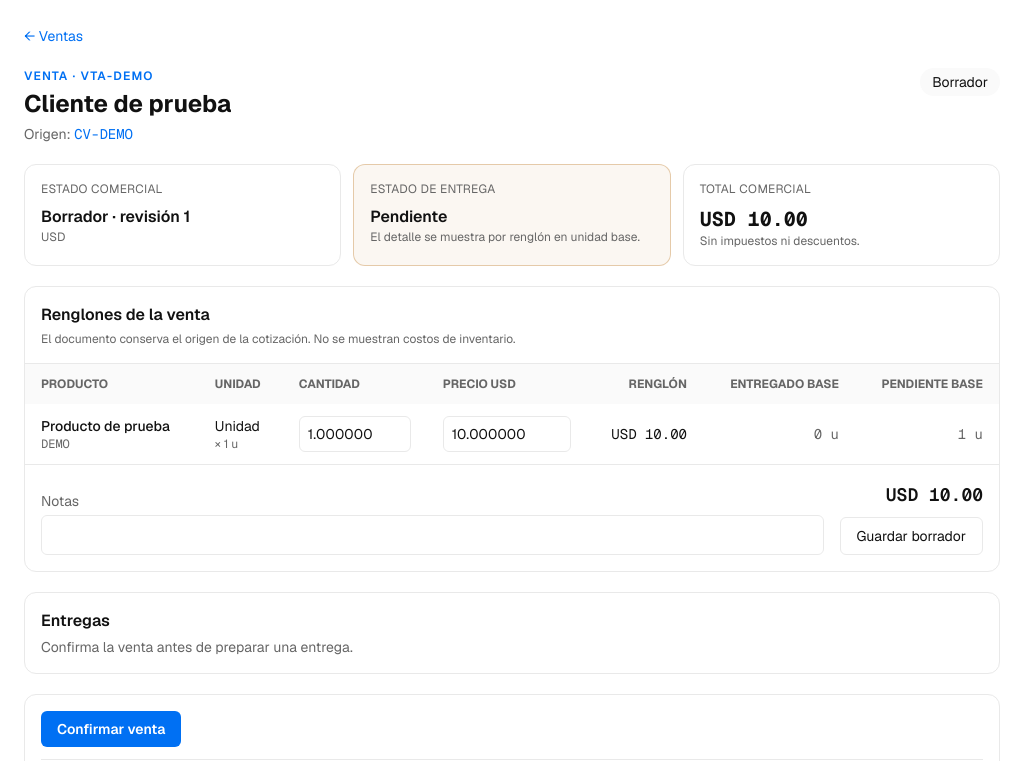
Test case: exige guardar cantidades editadas antes de confirmar los términos de la venta
expect the button "Confirmar venta" is enabled: met, box [41,711,181,747]
Replace the text in the number field named "Cantidad de Producto de prueba" with "2" at coordinates (355, 434), box [299,416,411,452]
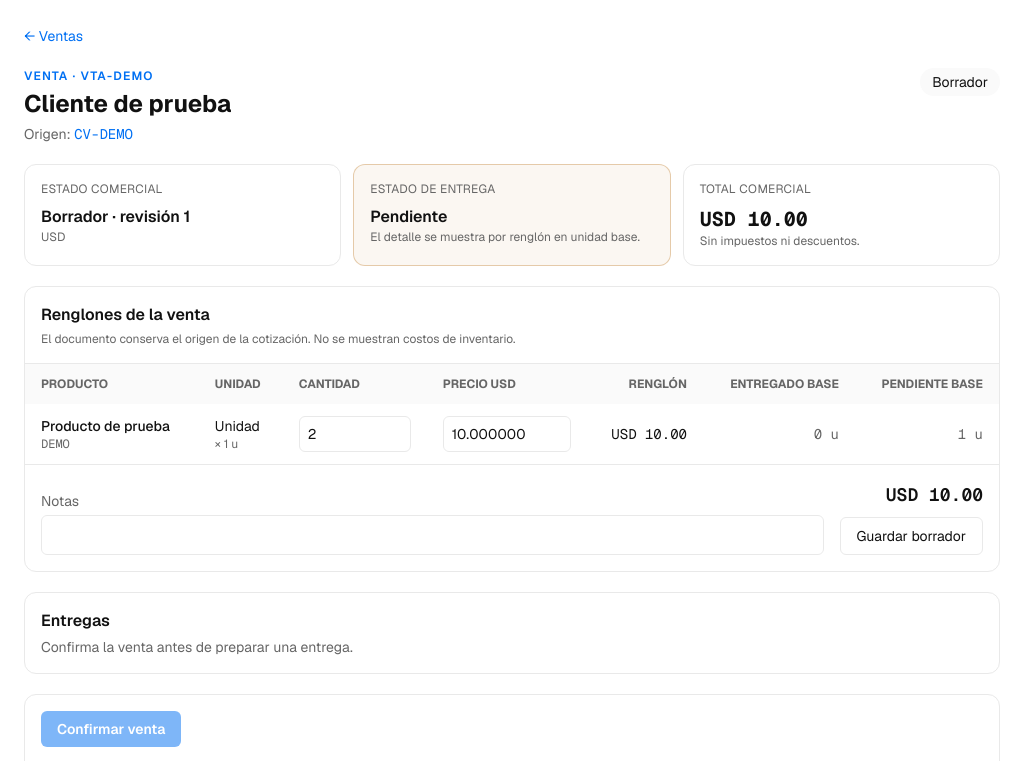
expect the button "Confirmar venta" is disabled: met, box [41,711,181,747]
Submit the form named "Guardar borrador", box [24,286,1000,572]
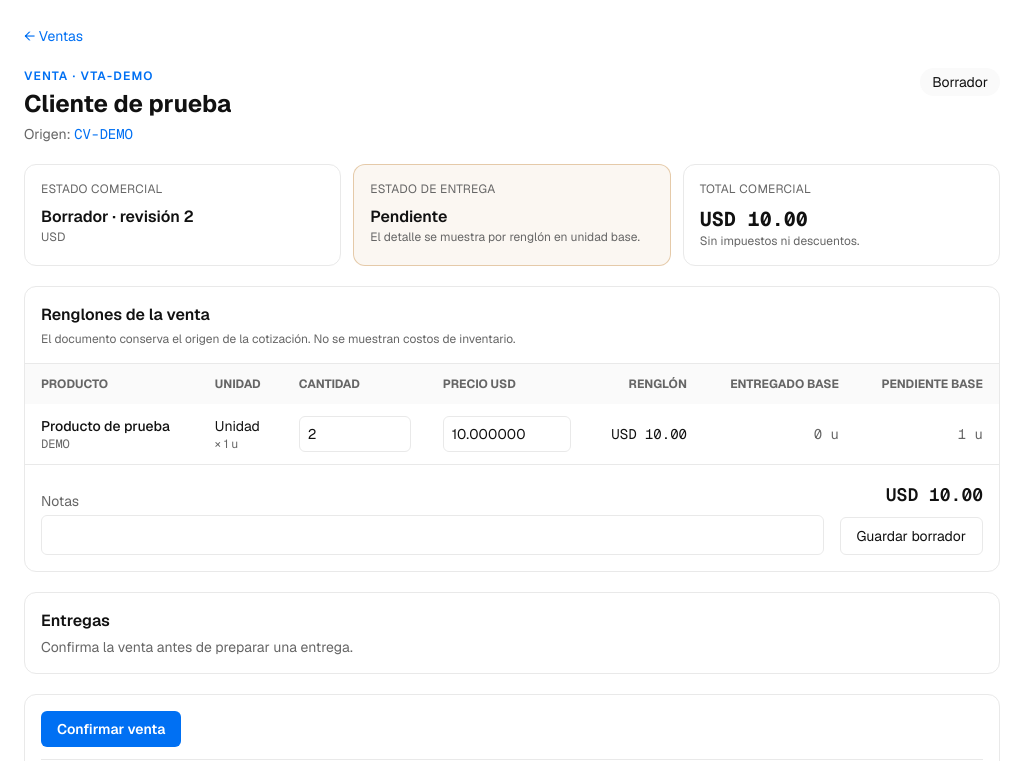
expect the button "Confirmar venta" is enabled: met, box [41,711,181,747]
